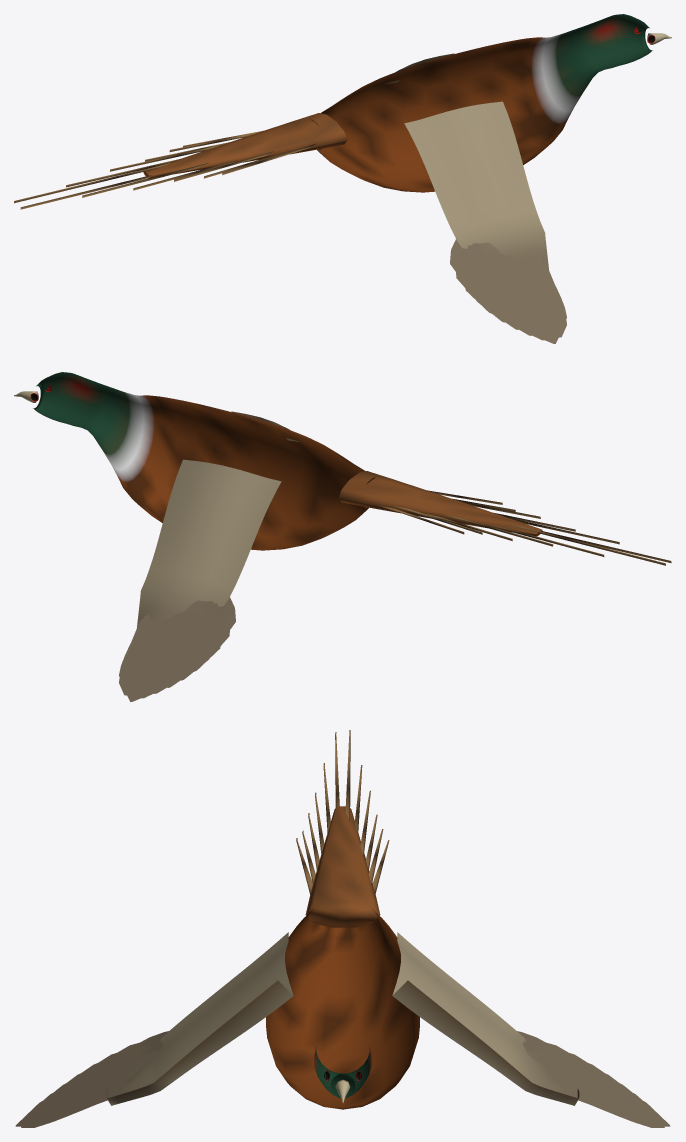
The model's file is SM_Bird_pheasant_flap2.glb.
3 views of the same model, one above another, from view 1: azimuth 30°, elevation 25°; view 2: azimuth 150°, elevation 25°; view 3: azimuth 270°, elevation 25° (orthographic). The views are drawn at different scales.
Parts seen in each view (by area): view 1: SM_Bird_pheasant_flap2; view 2: SM_Bird_pheasant_flap2; view 3: SM_Bird_pheasant_flap2.
Part boxes in pixels (<box>): SM_Bird_pheasant_flap2: <box>14,14,671,343</box>; SM_Bird_pheasant_flap2: <box>14,372,671,701</box>; SM_Bird_pheasant_flap2: <box>15,730,670,1127</box>.
Size of the model in its own units: 0.8785 by 0.2277 by 0.6427.
